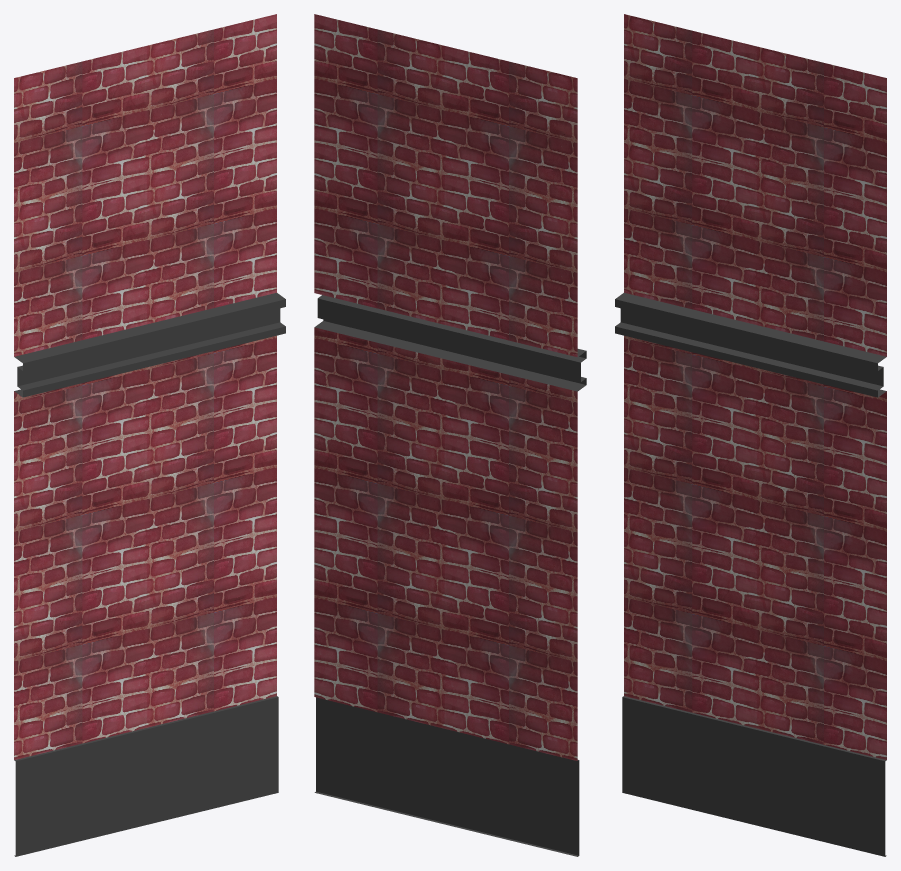
File: Wall_Main.fbx
The picture shows the model from 3 angles, left to right: view 1: azimuth 30°, elevation 25°; view 2: azimuth 150°, elevation 25°; view 3: azimuth 330°, elevation 25°; orthographic projection.
Visible parts, largest first — view 1: Wall; view 2: Wall; view 3: Wall.
Boxes of the visible parts, x1,y1,x2,y2 form: Wall: (14, 14, 285, 856); Wall: (314, 14, 586, 856); Wall: (615, 14, 886, 856).
Bounding box in the file's own units: 187 × 528 × 10.94.
